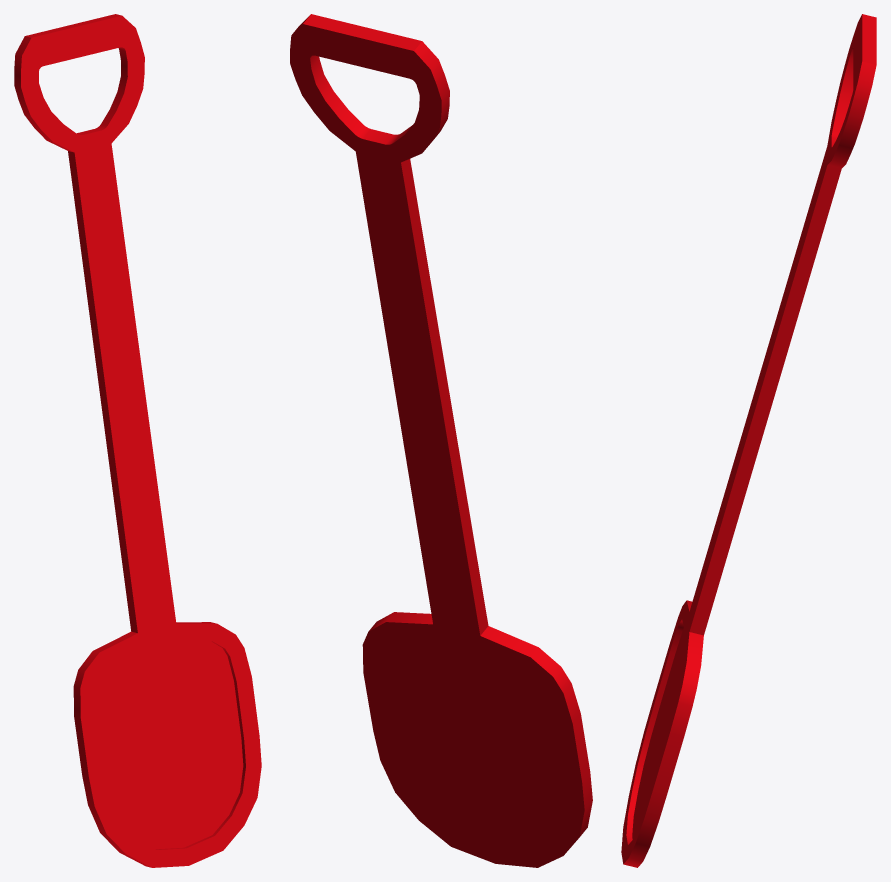
File: BaseTower_Shovel.fbx
3 views of the same model, side by side, from view 1: azimuth 30°, elevation 25°; view 2: azimuth 150°, elevation 25°; view 3: azimuth 270°, elevation 25° (orthographic). The views are drawn at different scales.
Parts seen in each view (by area): view 1: Shovel.001; view 2: Shovel.001; view 3: Shovel.001.
Part boxes in pixels (x1,y1,x2,y2): Shovel.001: (14,14,261,867); Shovel.001: (290,14,592,867); Shovel.001: (621,14,876,867).
Size of the model in its own units: 35.52 by 151 by 42.66.
